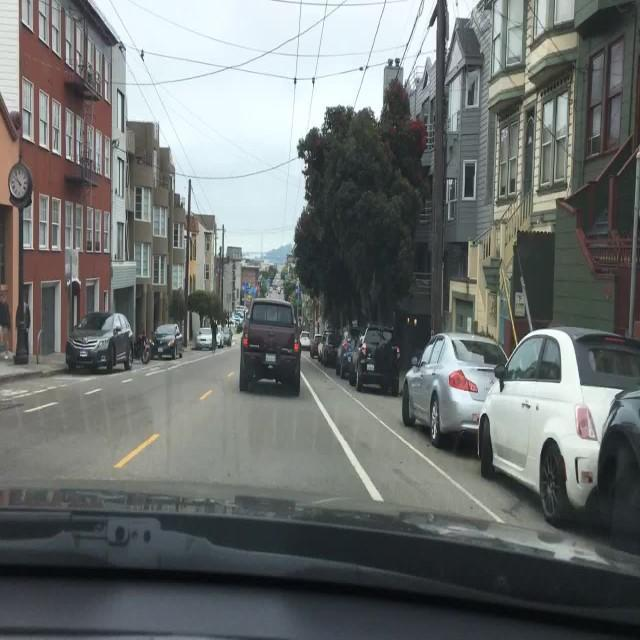normal: (479, 328, 640, 531), (398, 328, 505, 446), (238, 297, 303, 394), (64, 311, 136, 372), (349, 326, 401, 392), (150, 325, 184, 361), (319, 330, 344, 366), (196, 329, 216, 351), (300, 332, 313, 350)
